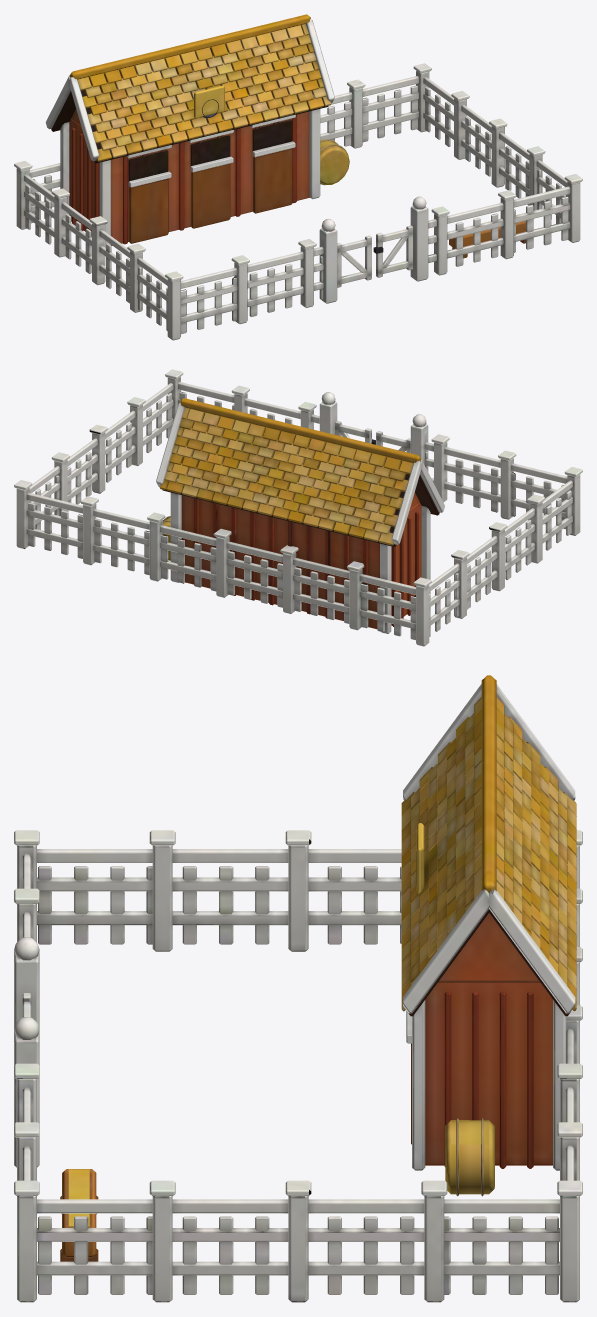
The model's file is palomino_stable.glb.
The picture shows the model from 3 angles, top to bottom: view 1: azimuth 30°, elevation 25°; view 2: azimuth 150°, elevation 25°; view 3: azimuth 270°, elevation 25°; orthographic projection. The views are drawn at different scales.
Visible parts, largest first — view 1: palomino_stable, gate1, gate0; view 2: palomino_stable, gate1, gate0; view 3: palomino_stable.
Boxes of the visible parts, x1=… form: palomino_stable: x1=14, y1=14, x2=582, y2=340; gate1: x1=373, y1=225, x2=413, y2=277; gate0: x1=337, y1=235, x2=371, y2=287; palomino_stable: x1=14, y1=369, x2=582, y2=646; gate1: x1=334, y1=420, x2=375, y2=444; gate0: x1=376, y1=431, x2=410, y2=453; palomino_stable: x1=14, y1=675, x2=582, y2=1302.
Bounding box in the file's own units: 2.99 × 1.16 × 1.99.
Materials: 1 (1 with a texture image).
